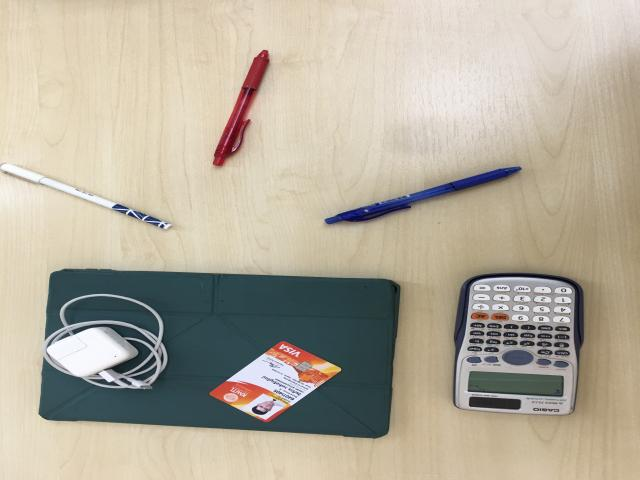Pen: (324, 167, 523, 227), (0, 164, 171, 231), (210, 51, 270, 169)
wire: (44, 322, 166, 391)
